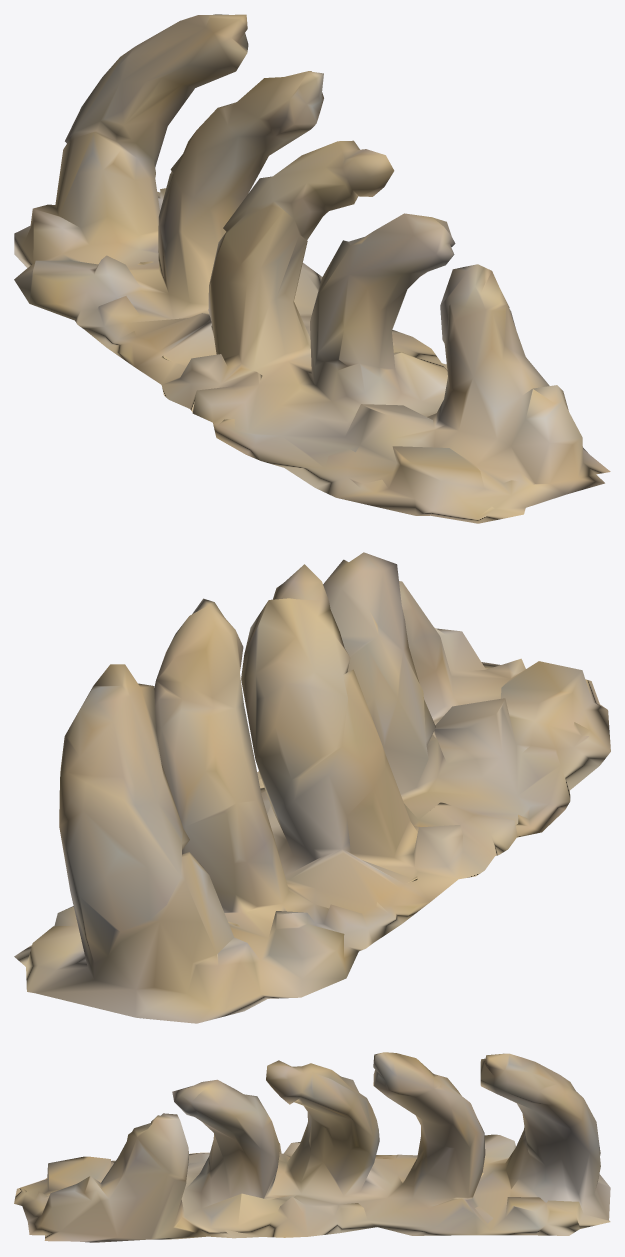
The model's file is RibBones_game.glb.
3 views of the same model, one above another, from view 1: azimuth 30°, elevation 25°; view 2: azimuth 150°, elevation 25°; view 3: azimuth 270°, elevation 25° (orthographic). The views are drawn at different scales.
Parts seen in each view (by area): view 1: RibBones; view 2: RibBones; view 3: RibBones.
Part boxes in pixels (x1=…): RibBones: x1=14, y1=14, x2=610, y2=523; RibBones: x1=14, y1=552, x2=610, y2=1023; RibBones: x1=14, y1=1052, x2=610, y2=1242.
Bounding box in the file's own units: 0.4154 × 0.354 × 1.14.
